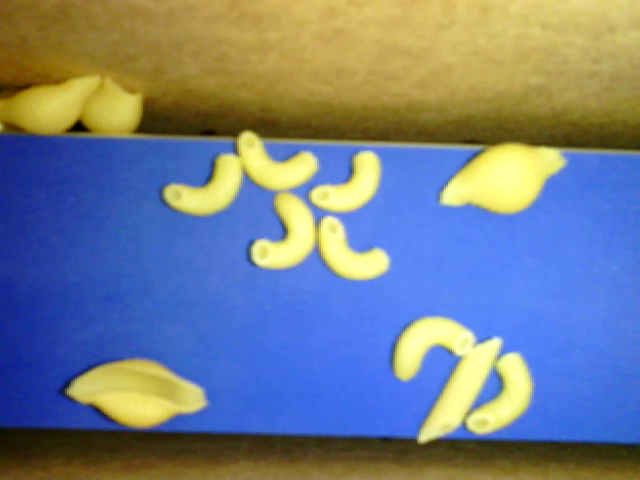elbow: (465, 348, 534, 437), (387, 314, 476, 382), (315, 210, 391, 284), (162, 149, 241, 218), (246, 192, 315, 268), (238, 128, 318, 189), (309, 150, 380, 209)
penne: (418, 336, 505, 444)
shell: (61, 355, 209, 429), (432, 142, 567, 218), (1, 72, 101, 134), (82, 75, 147, 137)
